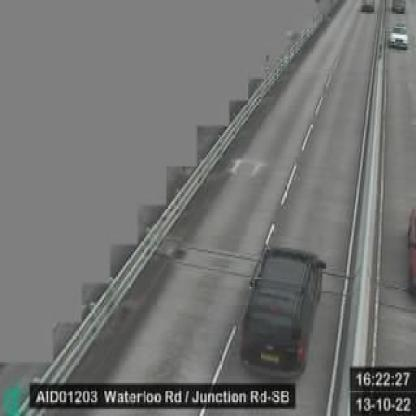Car: (240, 248, 323, 378), (388, 22, 408, 52), (362, 1, 376, 12), (394, 1, 407, 12)
